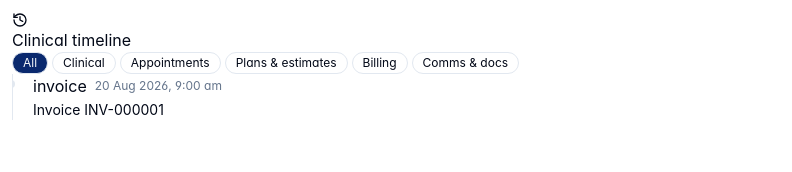
Test case: PatientTimelinePanel › filters events via group chips and shows an empty state
The width and height of the screenshot is (792, 172).
Expected: the text "Invoice INV-000001" is shown, x1=33 y1=101 x2=164 y2=118
Click the button "Clinical" at point(84, 63), box x1=52 y1=52 x2=116 y2=74
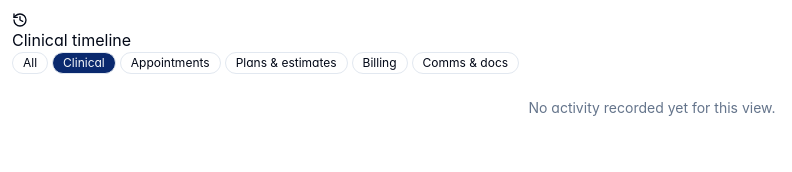
Expected: the text "No activity recorded yet for this view." is shown, x1=528 y1=99 x2=776 y2=116
Expected: the text "Invoice INV-000001" is gone
